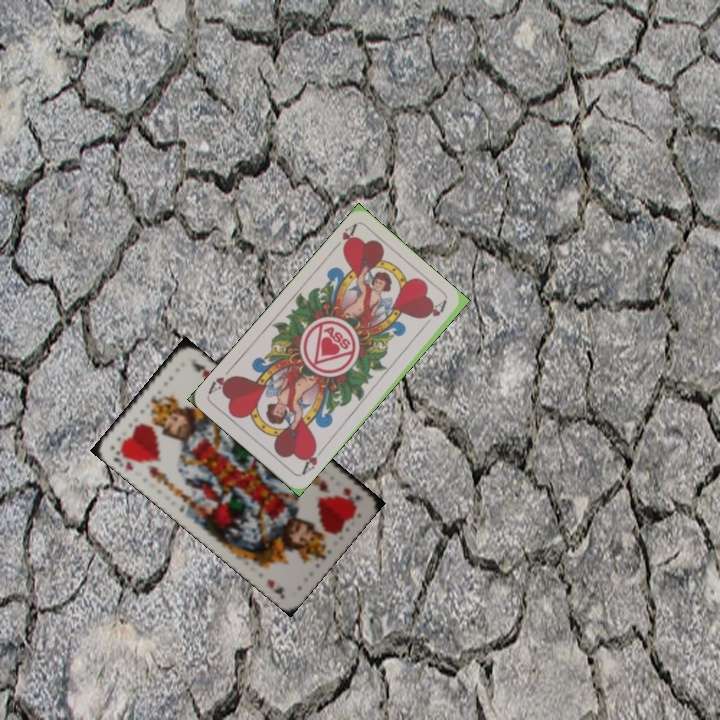HA: (328, 220, 359, 255), (298, 442, 327, 478)
HK: (109, 445, 139, 473), (339, 483, 363, 502)
